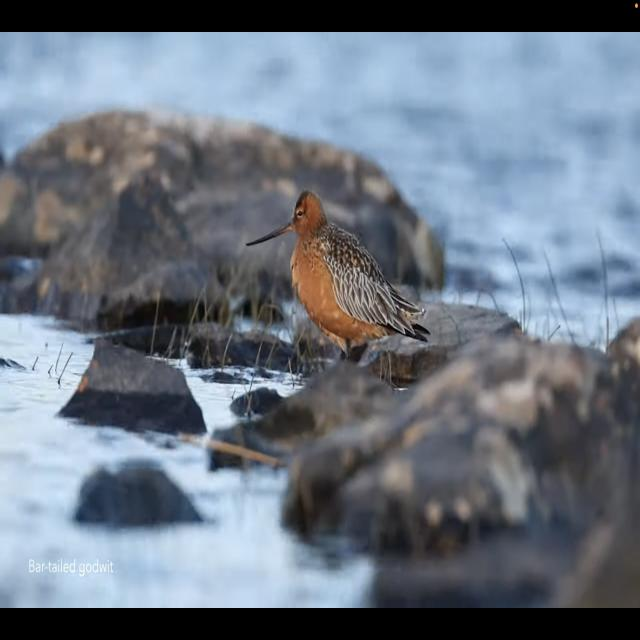beak: (245, 221, 292, 248)
bird: (246, 186, 431, 364)
